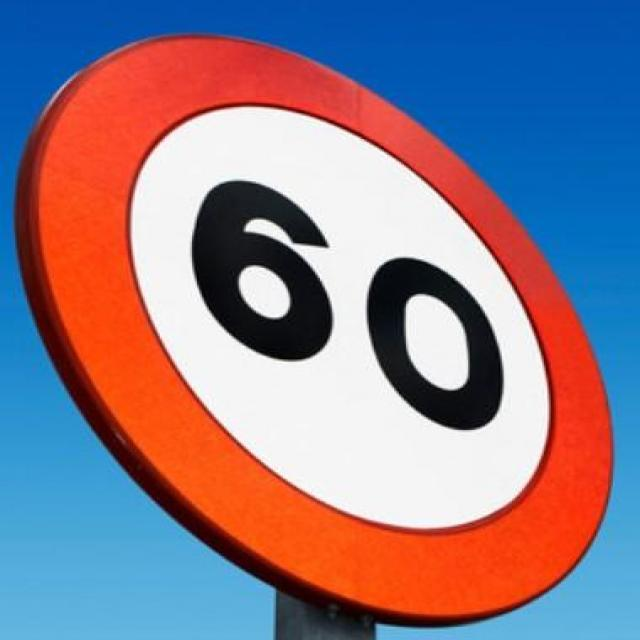speed limit 60: (24, 31, 611, 623)
